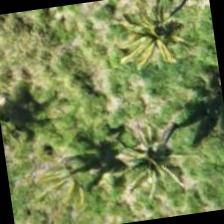Kelapa_Sawit: (109, 109, 211, 211), (102, 0, 204, 84)
